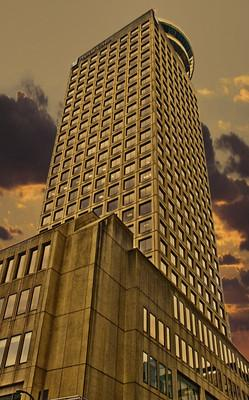building: (36, 9, 239, 400)
